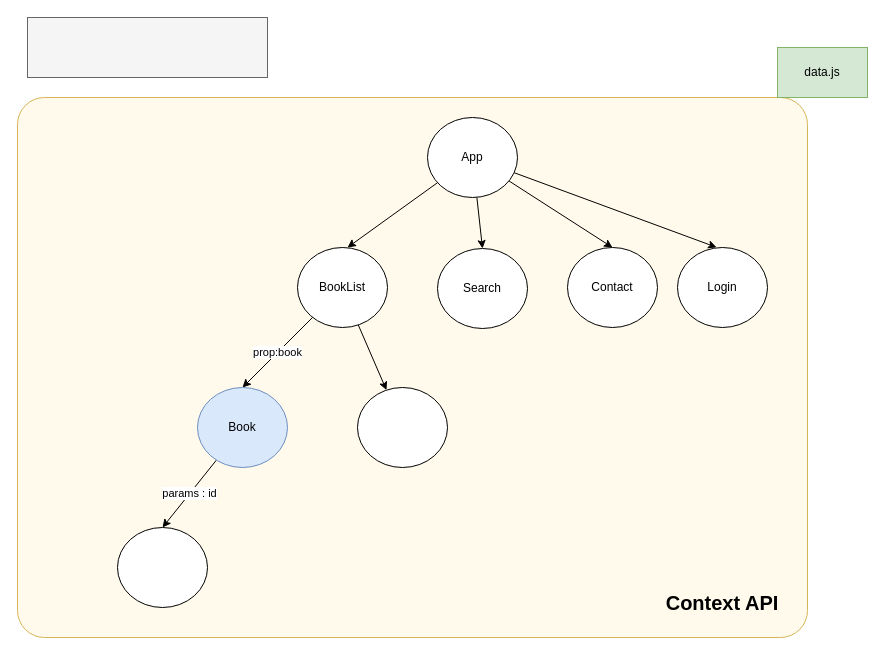
The diagram is 885 pixels wide and 655 high, and some of its shapes have lost their labels. The box of each missing label's shape, as (x1, y1, x2, y2) in pixels:
BookAdd: (356, 386, 448, 468)
BookDetails: (116, 526, 208, 608)
Single Page Application (SPA): (26, 16, 268, 78)
